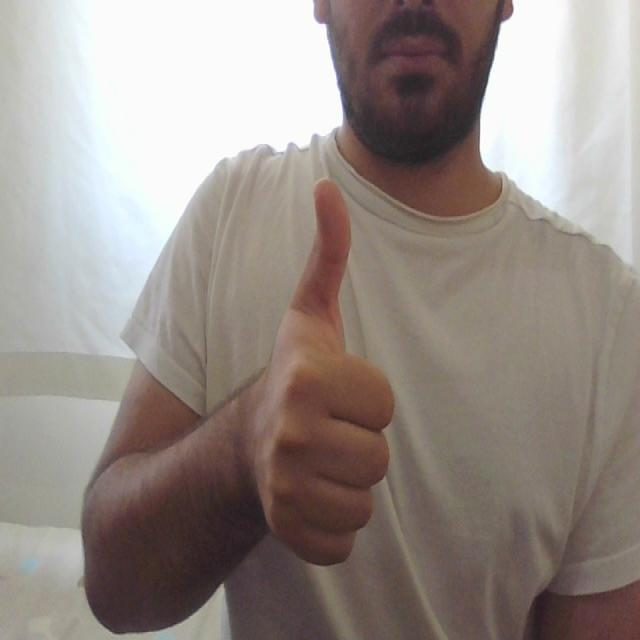Tamam: (228, 174, 407, 573)
